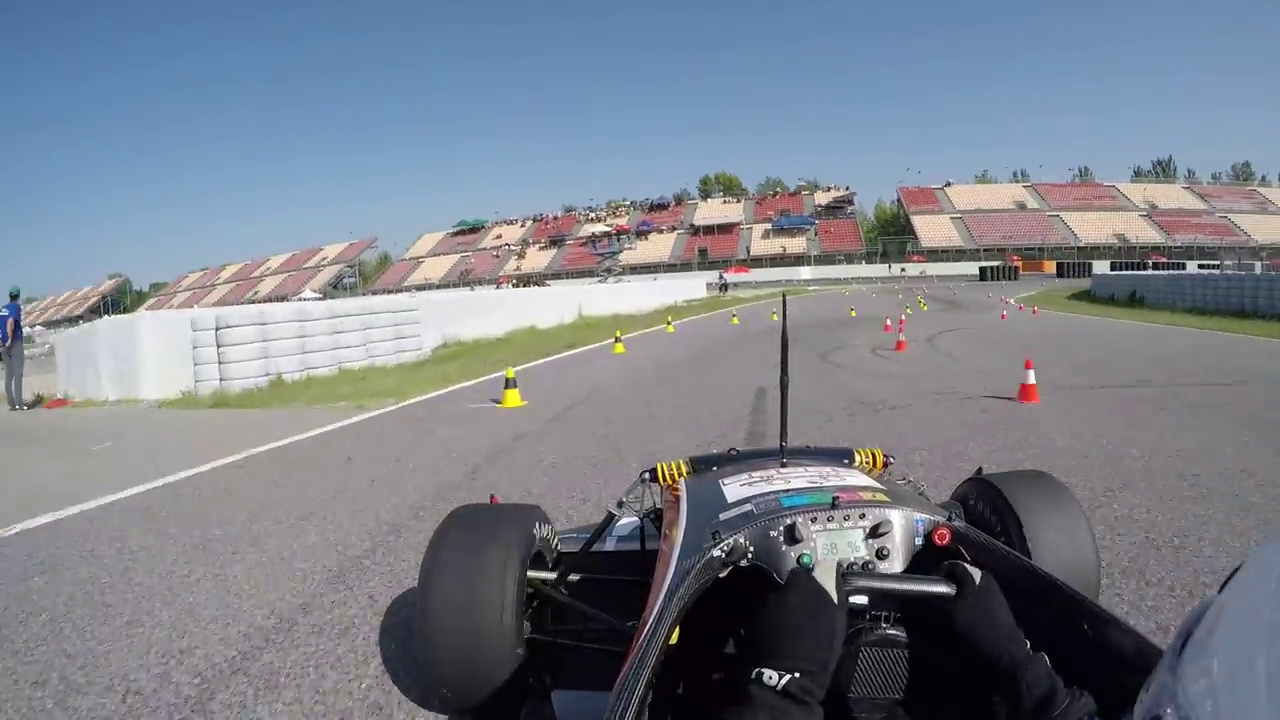Cone: (1012, 358, 1045, 406), (497, 362, 527, 411)
